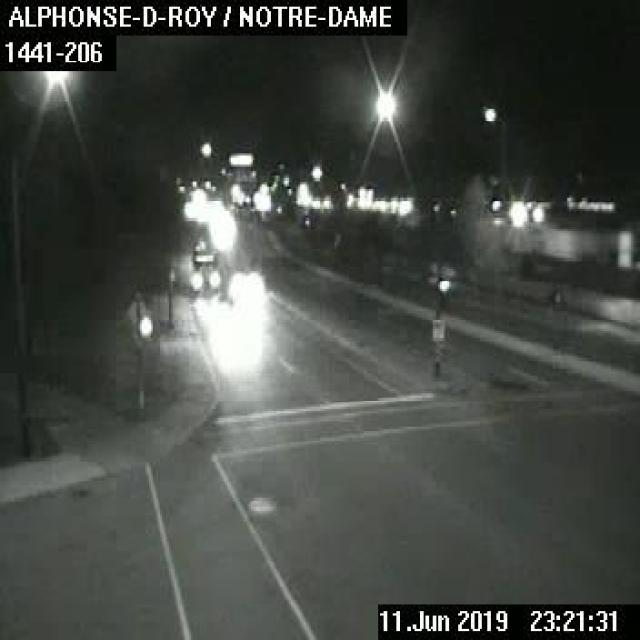vehicle: (190, 243, 220, 294)
